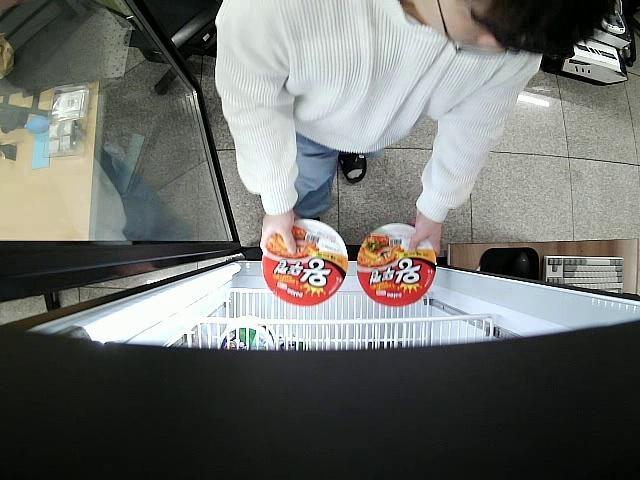10_wangTtukkeong: (262, 220, 347, 306), (357, 223, 436, 308)
